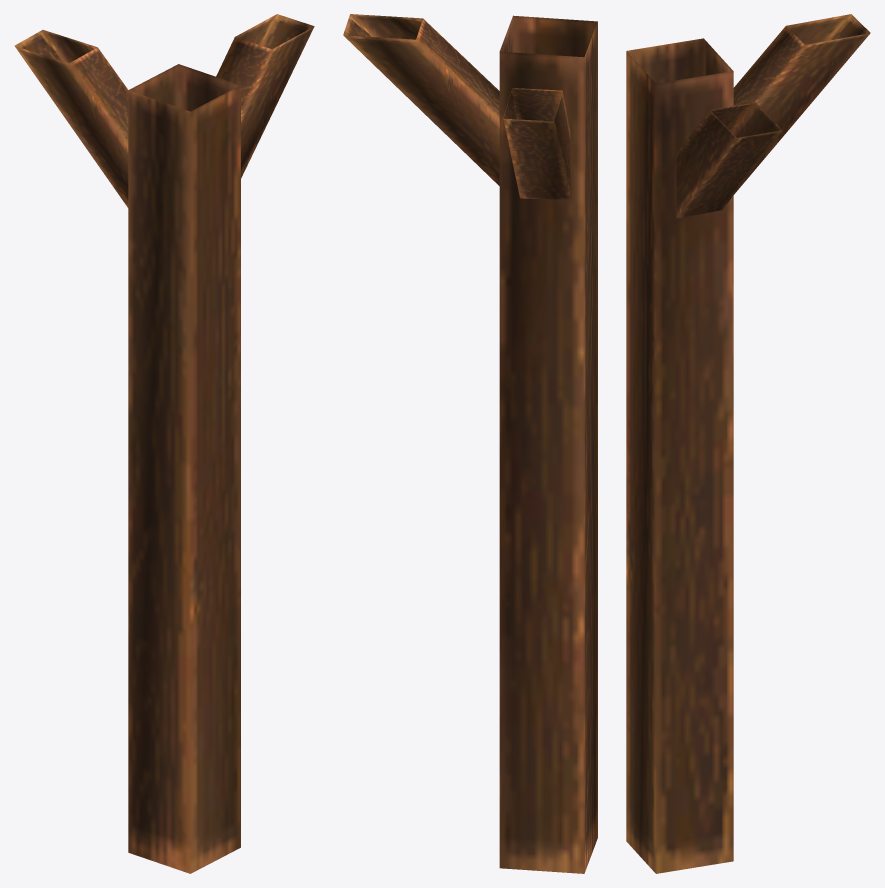
Rendered from SWORDLIGHT20_JAILPLATSUPPORT71.fbx.
The picture shows the model from 3 angles, left to right: view 1: azimuth 30°, elevation 25°; view 2: azimuth 150°, elevation 25°; view 3: azimuth 270°, elevation 25°; orthographic projection. The views are drawn at different scales.
Parts seen in each view (by area): view 1: SWORDLIGHT20_JAILPLATSUPPORT71; view 2: SWORDLIGHT20_JAILPLATSUPPORT71; view 3: SWORDLIGHT20_JAILPLATSUPPORT71.
Part boxes in pixels (x1,y1,x2,y2): SWORDLIGHT20_JAILPLATSUPPORT71: (14, 14, 314, 873); SWORDLIGHT20_JAILPLATSUPPORT71: (343, 14, 597, 873); SWORDLIGHT20_JAILPLATSUPPORT71: (626, 14, 870, 873).
Size of the model in its own units: 14129 by 42140 by 11776.
Materials: 1 (1 with a texture image).
